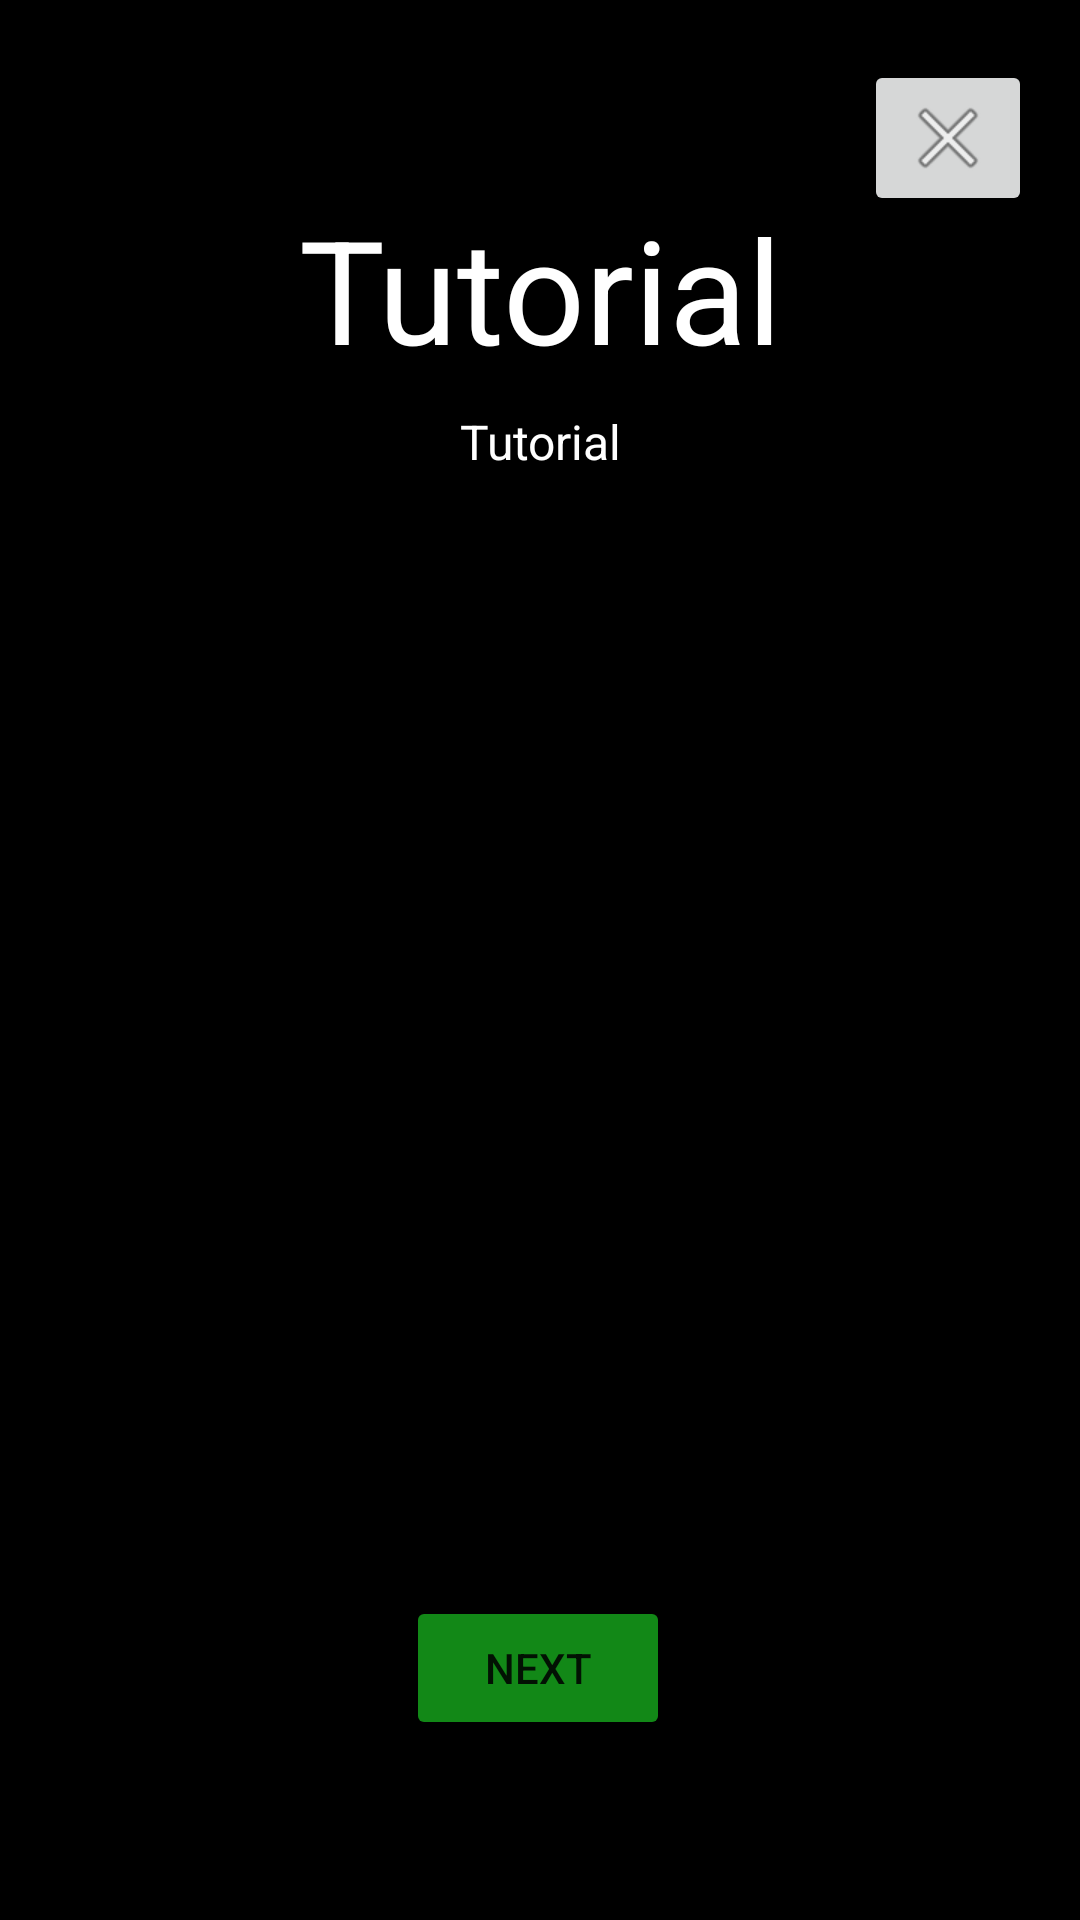

Where to tap for icons on this 1080x1920 app screen, as (x,y):
close clear cancel: (948,138)
